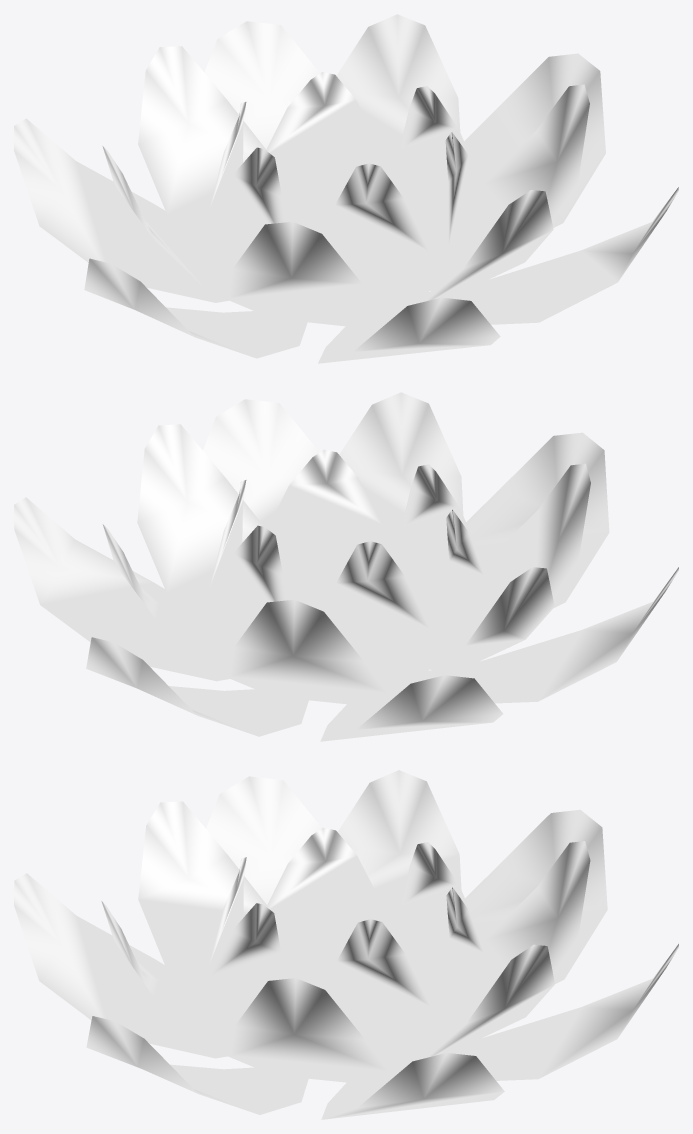
The model's file is LotusFlower.fbx.
3 renders of one model, top to bottom at view 1: azimuth 30°, elevation 25°; view 2: azimuth 150°, elevation 25°; view 3: azimuth 270°, elevation 25°, orthographic.
Visible parts, largest first — view 1: LotusFlower; view 2: LotusFlower; view 3: LotusFlower.
Boxes of the visible parts, bbox=[...] form: LotusFlower: bbox=[14, 14, 678, 363]; LotusFlower: bbox=[14, 392, 678, 741]; LotusFlower: bbox=[14, 770, 678, 1119].
Size of the model in its own units: 0.8607 by 0.2561 by 0.8604.
